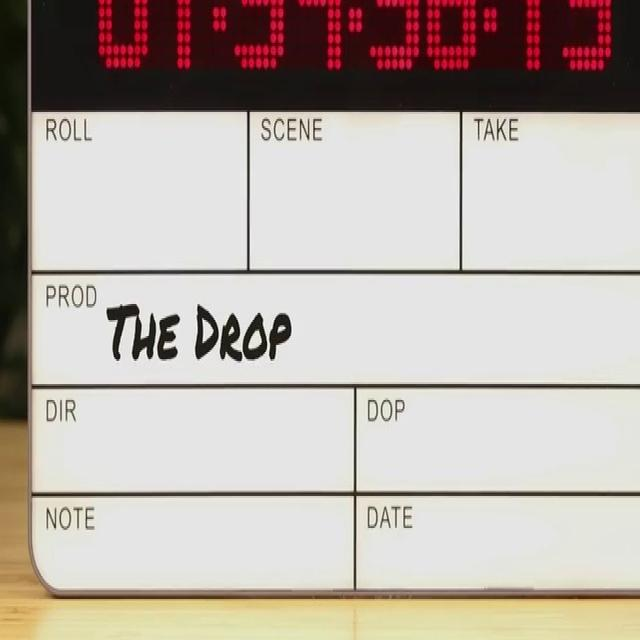Clapperboard: (25, 2, 640, 601)
